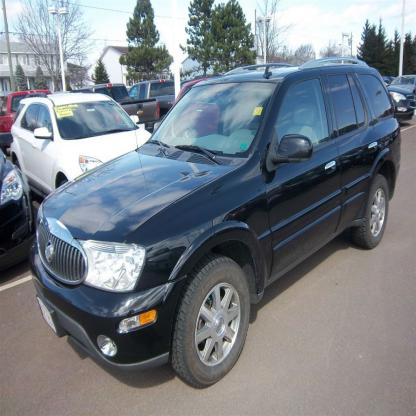car: (34, 58, 402, 392)
